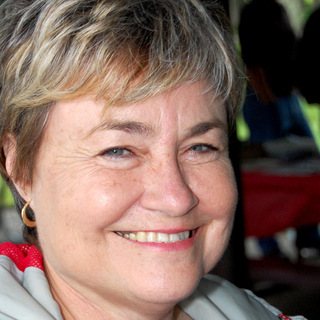eye: (90, 141, 141, 166), (177, 139, 225, 161)
